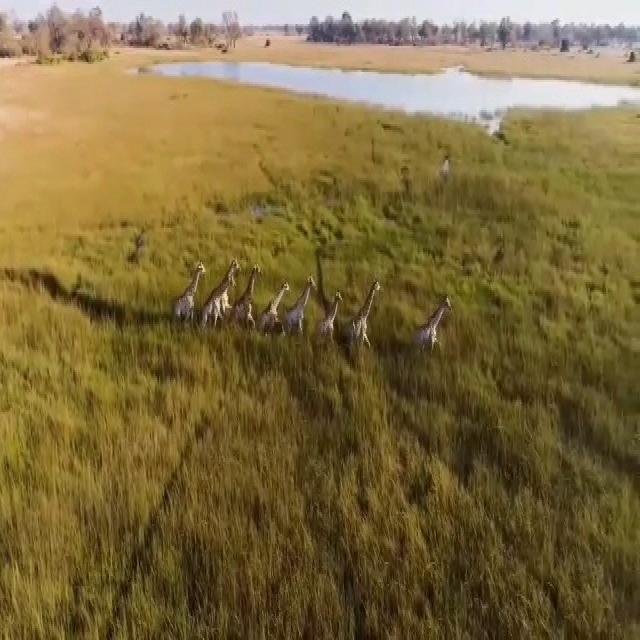Girraffe: (168, 256, 214, 329), (204, 254, 238, 340), (351, 278, 381, 354), (411, 295, 450, 351), (238, 259, 262, 332), (267, 276, 290, 347), (319, 287, 342, 353), (291, 276, 314, 341)
